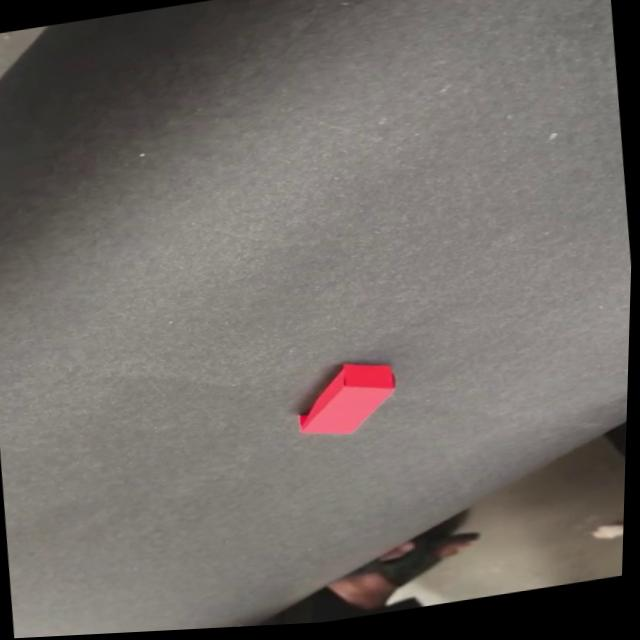red block: (291, 355, 403, 442)
